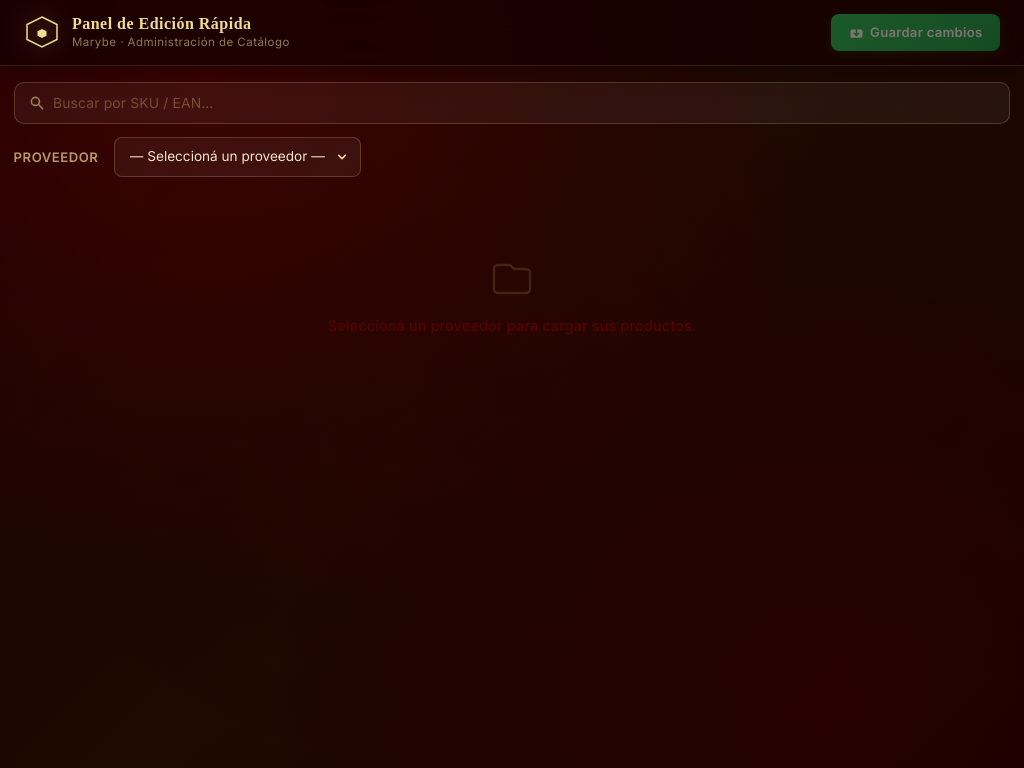
EditorAdmin — Panel de Edición Rápida › carga proveedores, permite seleccionar y renderiza la tabla compacta
Check: the heading "Panel de Edición Rápida" is shown, box [72,15,252,32]
Check: the text "Marybe · Administración de Catálogo" is shown, box [72,33,290,51]
Step 1. Select "Marybe Paris" in the dropdown → (238, 157), box [114,137,361,177]
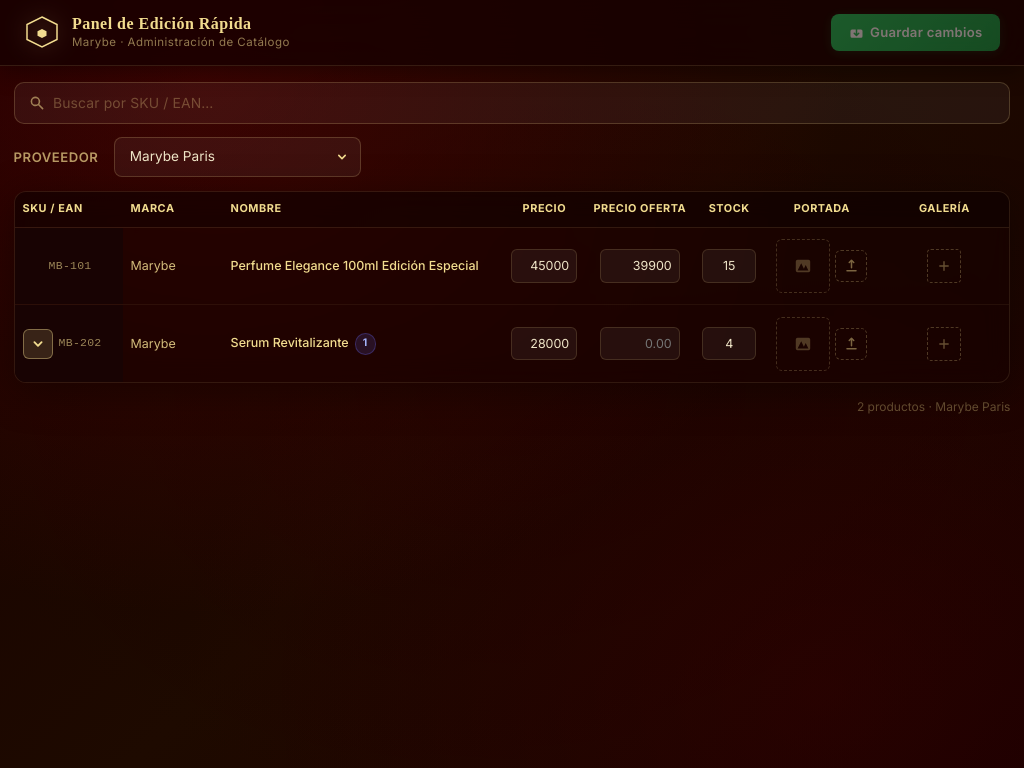
Check: the text "Perfume Elegance 100ml Edición Especial" is shown, box [231,258,479,274]
Check: the 3rd number field showing "15" is shown, box [702,249,756,282]
Check: the 1st number field is shown, box [511,249,577,282]
